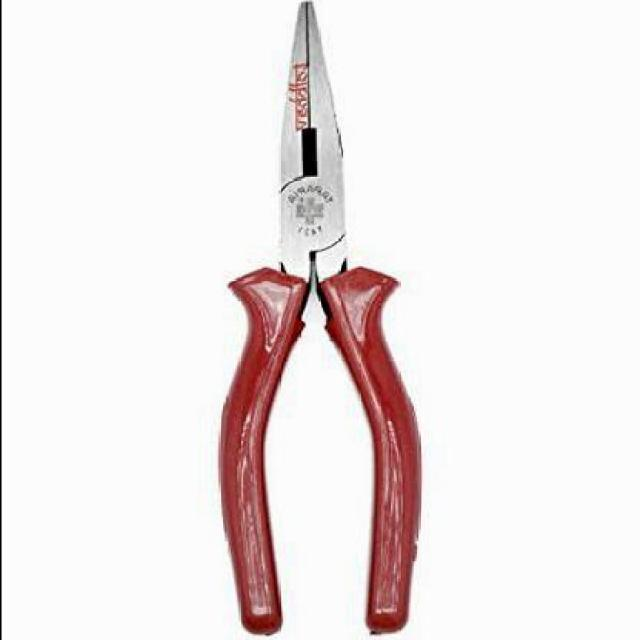pliers: (210, 0, 419, 635)
